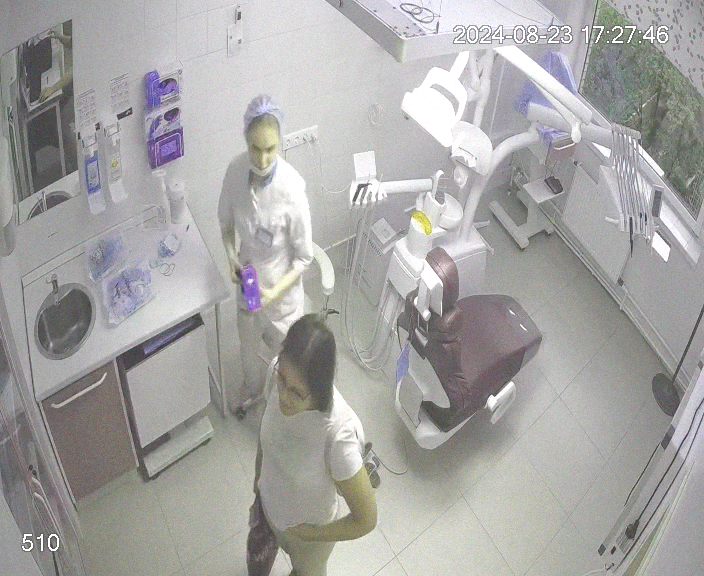Empty: (376, 251, 544, 448)
